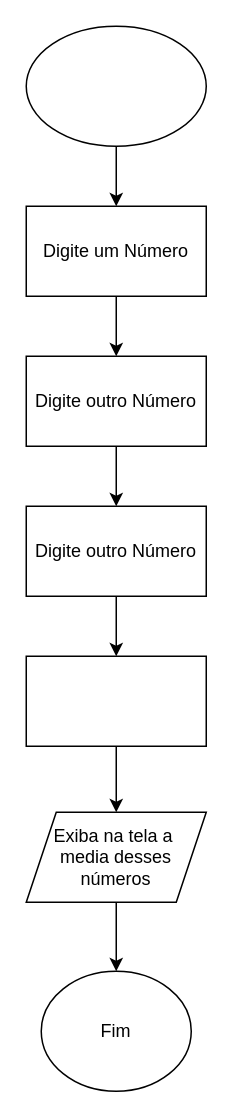
Some shapes in this 233 by 1118 pixel diagram are drawn without their labels. Here are the shapes that lost their labels. From the top down, the centre of each, then its label:
At pixel 115 85: "Inicio".
At pixel 115 700: "Média = (número1 + número2 + número3) /3".
